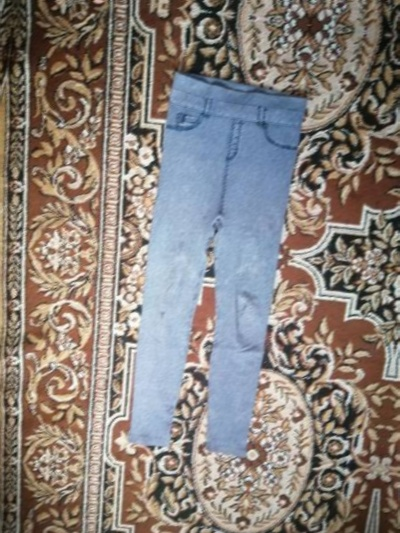Pants: (81, 34, 329, 453)
